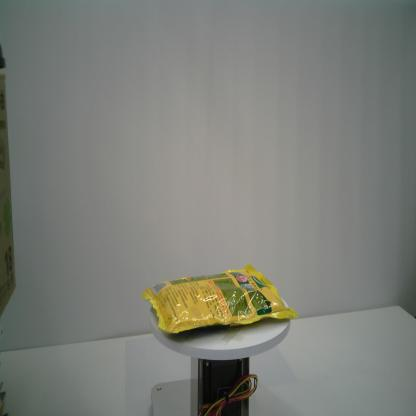Seasoner: (139, 261, 300, 335)
